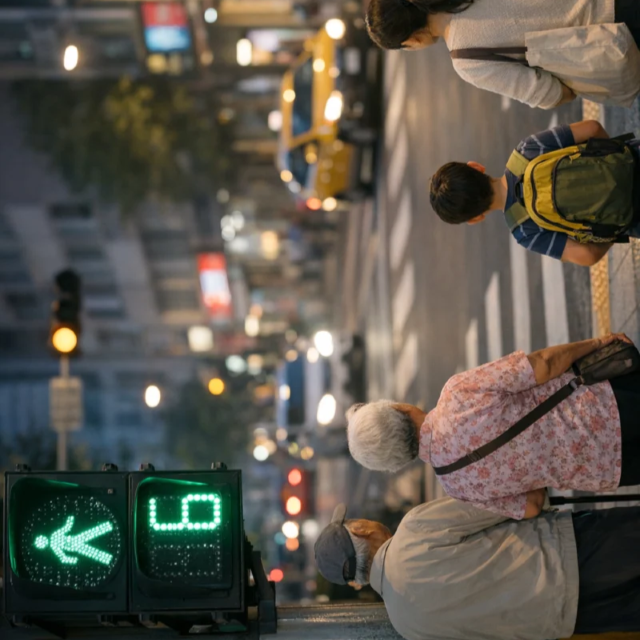green_light: (5, 473, 248, 614)
